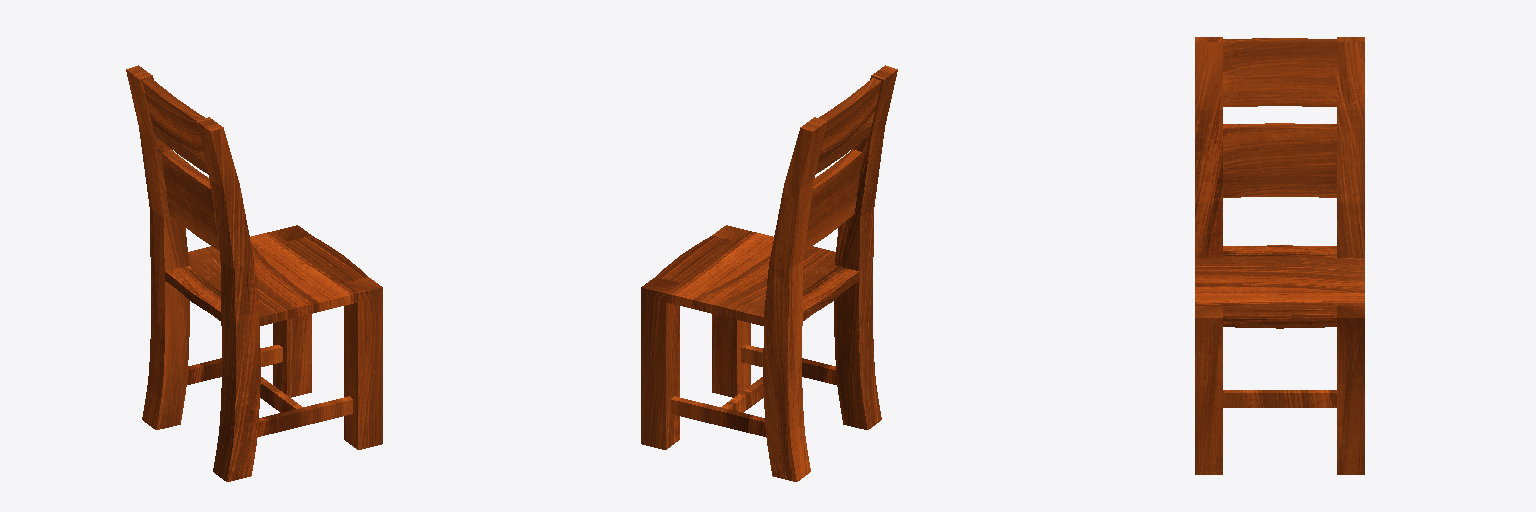
The picture shows the model from 3 angles: view 1: azimuth 30°, elevation 25°; view 2: azimuth 150°, elevation 25°; view 3: azimuth 270°, elevation 25°; orthographic projection.
Visible parts, largest first — view 1: Chair_Cube.001; view 2: Chair_Cube.001; view 3: Chair_Cube.001.
Boxes of the visible parts, box(x1,y1,x2,y2) form: Chair_Cube.001: box(126, 65, 382, 481); Chair_Cube.001: box(641, 65, 897, 481); Chair_Cube.001: box(1195, 37, 1364, 474).
Bounding box in the file's own units: 0.6857 × 1.33 × 0.5767.
1 materials, 1 textured.